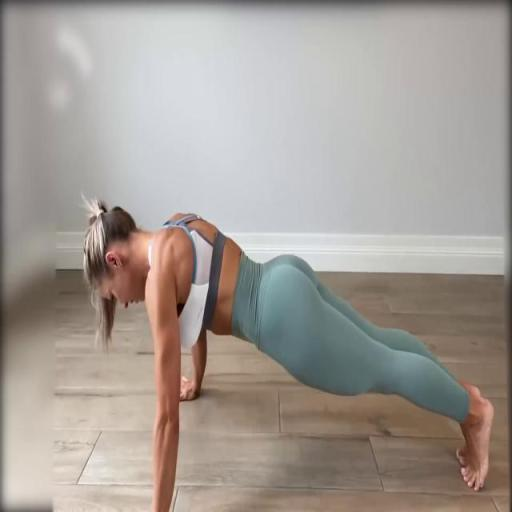Normal_BrenchPress: (80, 196, 496, 506)
